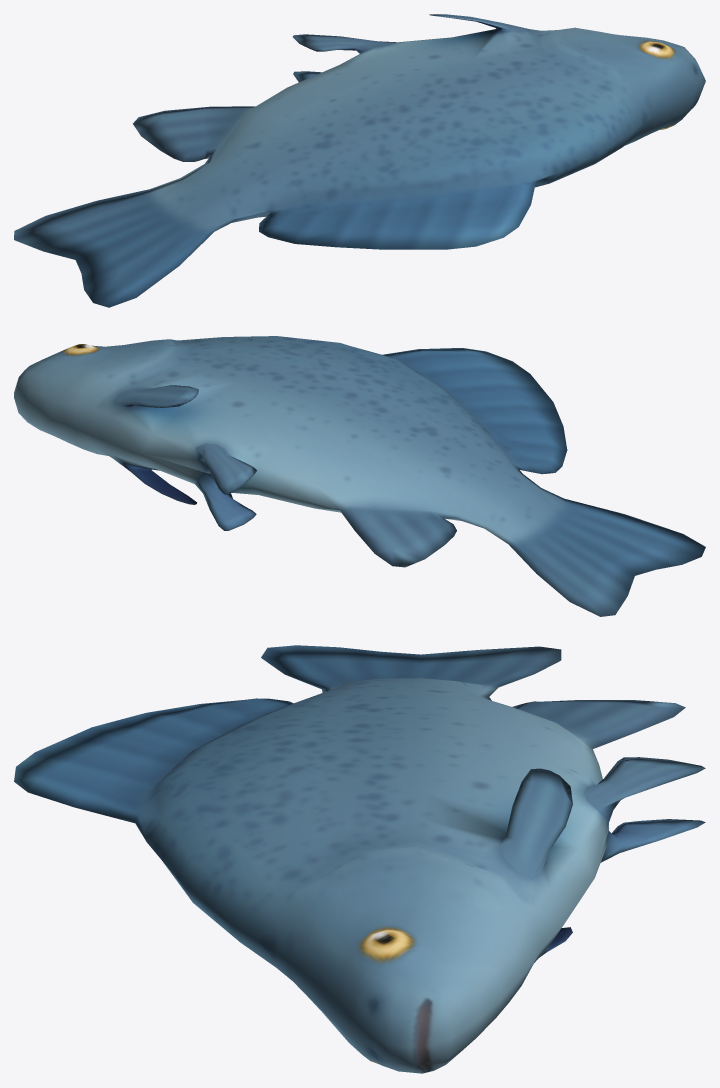
File: fish_carryItem.fbx
3 views of the same model, one above another, from view 1: azimuth 30°, elevation 25°; view 2: azimuth 150°, elevation 25°; view 3: azimuth 270°, elevation 25° (orthographic). The views are drawn at different scales.
Parts seen in each view (by area): view 1: fish_lowP3; view 2: fish_lowP3; view 3: fish_lowP3.
Boxes of the visible parts, bbox=[...] form: fish_lowP3: bbox=[14, 14, 705, 307]; fish_lowP3: bbox=[14, 336, 705, 616]; fish_lowP3: bbox=[14, 645, 705, 1073].
Size of the model in its own units: 132 by 24.08 by 83.76.
1 material, 1 textured.
